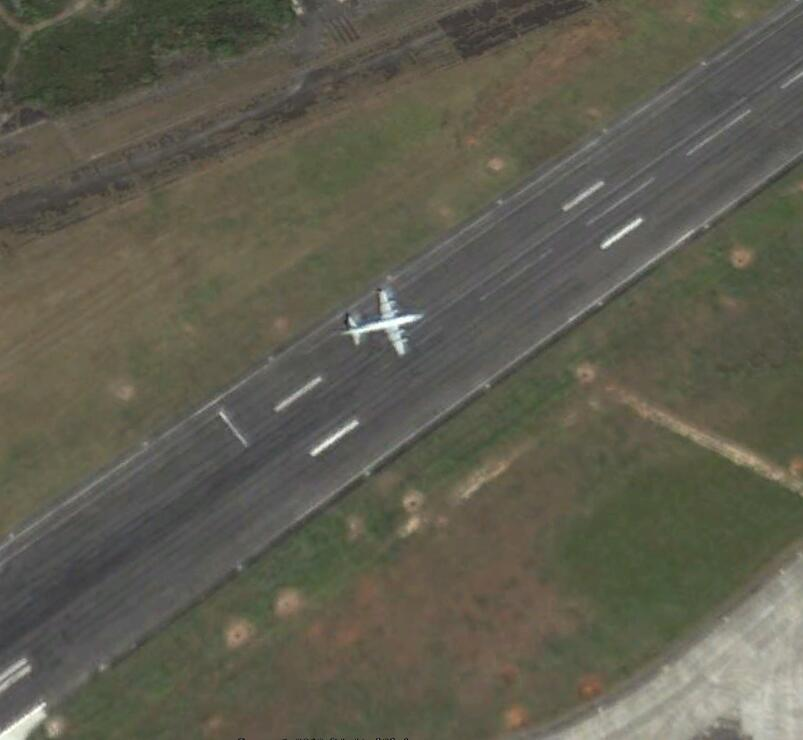A9: (345, 288, 424, 357)
